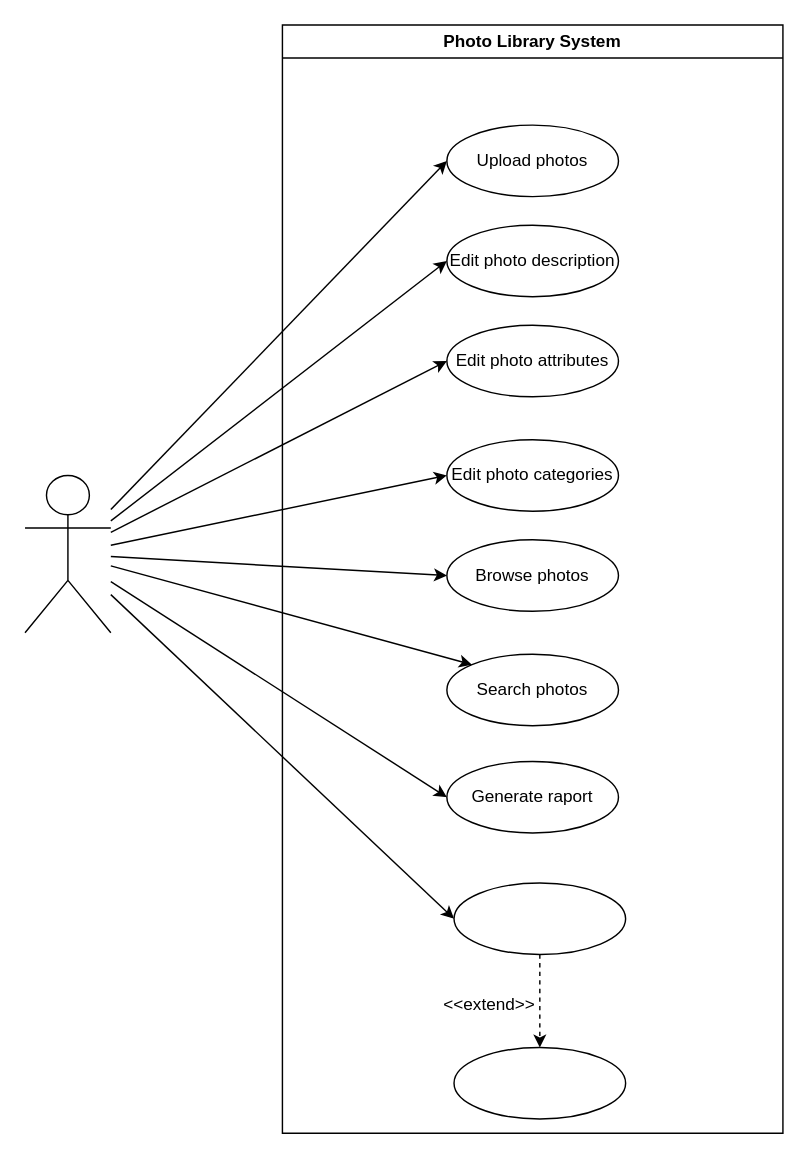
Some shapes in this 808 by 1158 pixel diagram are drawn without their labels. The box of each missing label's shape, as (x1, y1, x2, y2) in pixels:
Save photos: (453, 882, 626, 955)
Save to device: (453, 1046, 626, 1119)
User: (24, 474, 111, 633)
